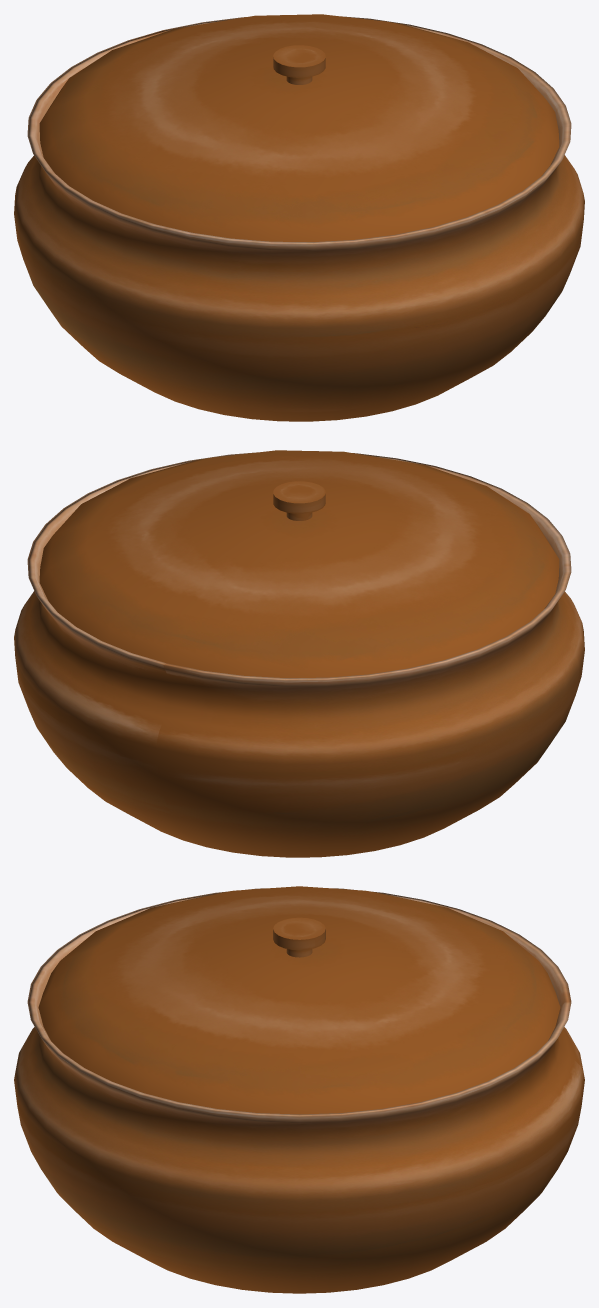
File: pot.fbx
3 views of the same model, one above another, from view 1: azimuth 30°, elevation 25°; view 2: azimuth 150°, elevation 25°; view 3: azimuth 270°, elevation 25° (orthographic).
Visible parts, largest first — view 1: pSphere1, pSphere2, pCylinder1; view 2: pSphere1, pSphere2, pCylinder1; view 3: pSphere1, pSphere2, pCylinder1.
Part boxes in pixels (x1=…): pSphere1: x1=14, y1=15, x2=584, y2=421; pSphere2: x1=39, y1=14, x2=559, y2=241; pCylinder1: x1=273, y1=45, x2=325, y2=84; pSphere1: x1=14, y1=451, x2=584, y2=857; pSphere2: x1=39, y1=450, x2=559, y2=677; pCylinder1: x1=273, y1=481, x2=325, y2=520; pSphere1: x1=14, y1=888, x2=584, y2=1293; pSphere2: x1=38, y1=886, x2=560, y2=1114; pCylinder1: x1=273, y1=917, x2=325, y2=957.
Size of the model in its own units: 4.55 by 2.6 by 4.55.
3 materials, 3 textured.
